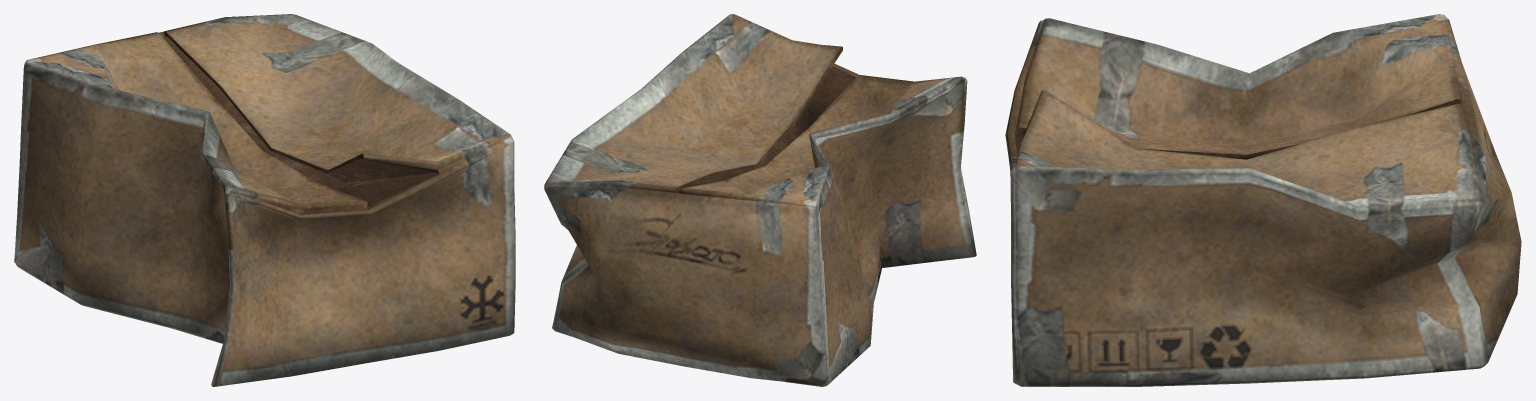
The model's file is cardboardBox04_c.FBX.
3 views of the same model, side by side, from view 1: azimuth 30°, elevation 25°; view 2: azimuth 150°, elevation 25°; view 3: azimuth 270°, elevation 25° (orthographic). The views are drawn at different scales.
Parts seen in each view (by area): view 1: SM_CardboardBox04; view 2: SM_CardboardBox04; view 3: SM_CardboardBox04.
Part boxes in pixels (left/top/right/bottom): SM_CardboardBox04: left=14, top=14, right=515, bottom=386; SM_CardboardBox04: left=544, top=14, right=976, bottom=386; SM_CardboardBox04: left=1005, top=14, right=1521, bottom=386.
Bounding box in the file's own units: 40.46 × 25.68 × 51.62.
1 material, 1 textured.
